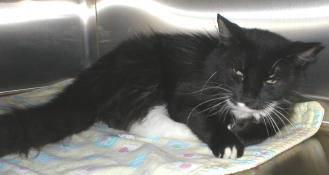cat: (0, 15, 324, 157)
